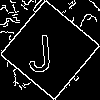J: (25, 25, 54, 73)
